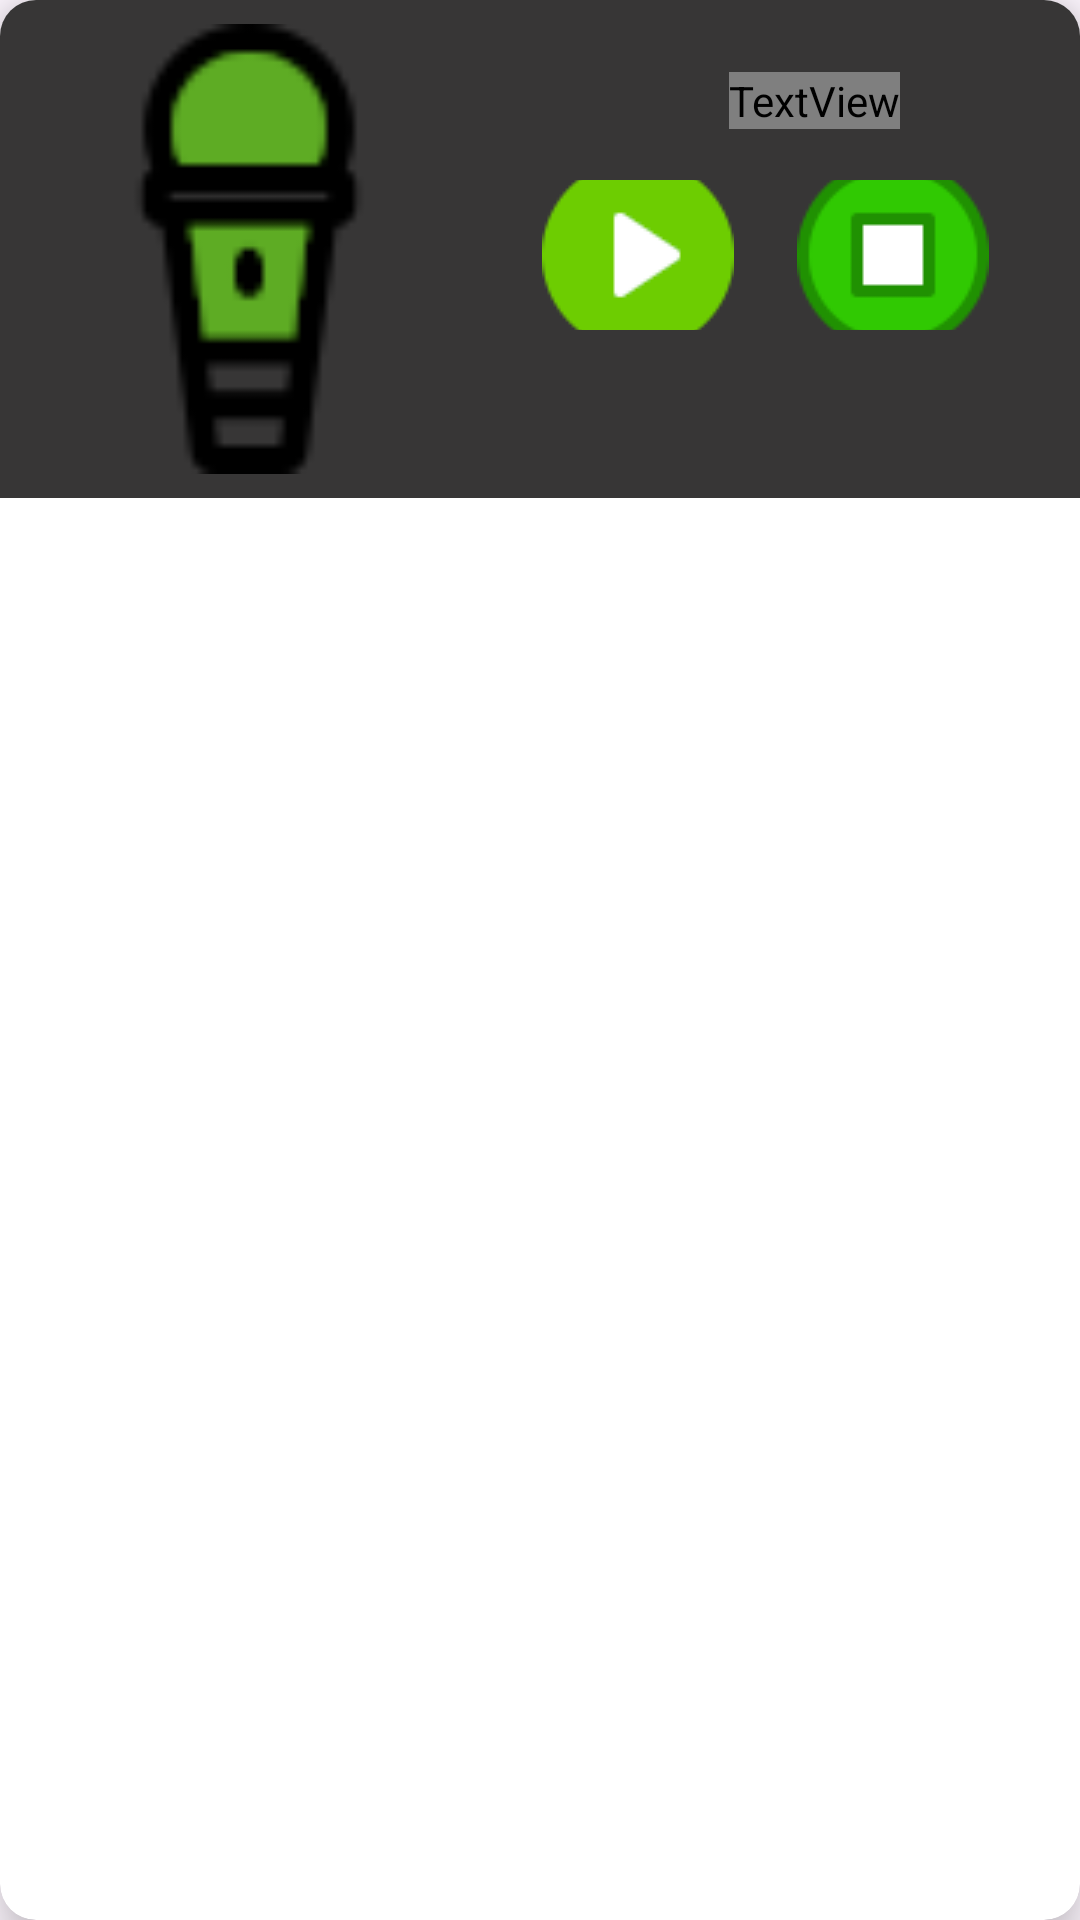

Where to tap for icons on this 1080px×1920px app screen, as (x=x, y=y):
detener: (x=893, y=255)
reproducir: (x=638, y=255)
